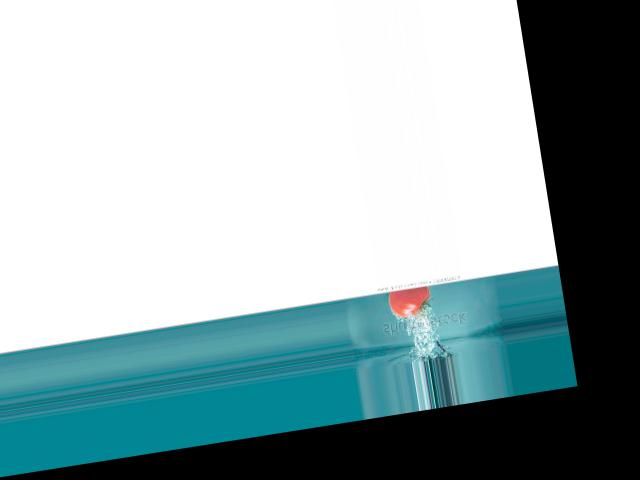tomato: (388, 285, 434, 319)
